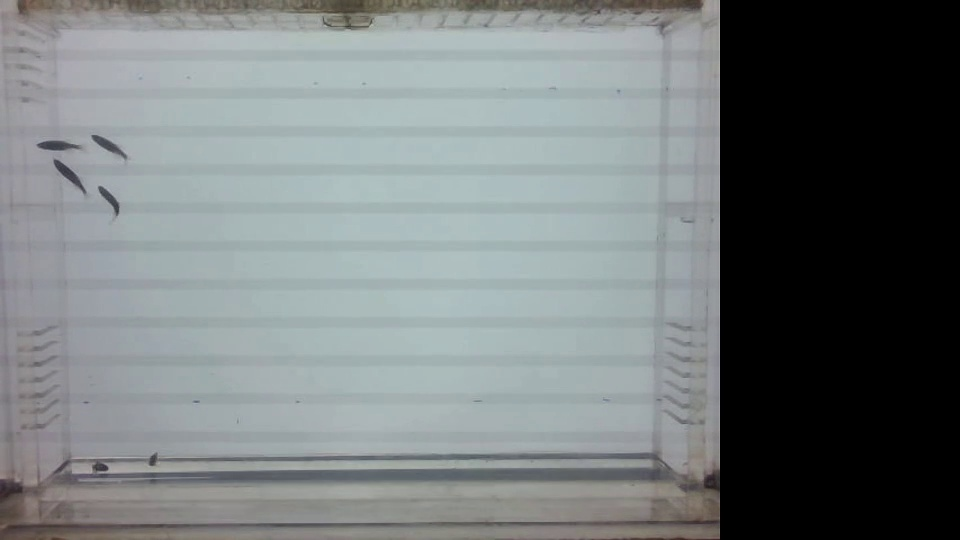fish: (40, 156, 88, 200), (88, 132, 129, 169), (88, 181, 124, 221), (28, 137, 84, 156), (84, 458, 110, 476), (140, 450, 165, 468)
